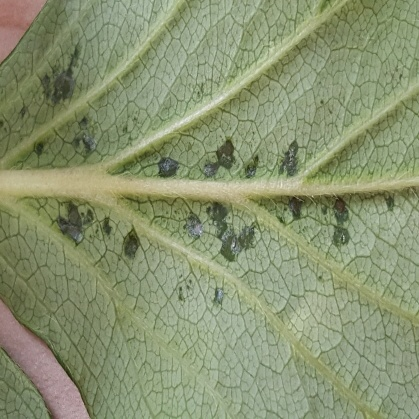Angular_LS: (0, 109, 410, 384)
